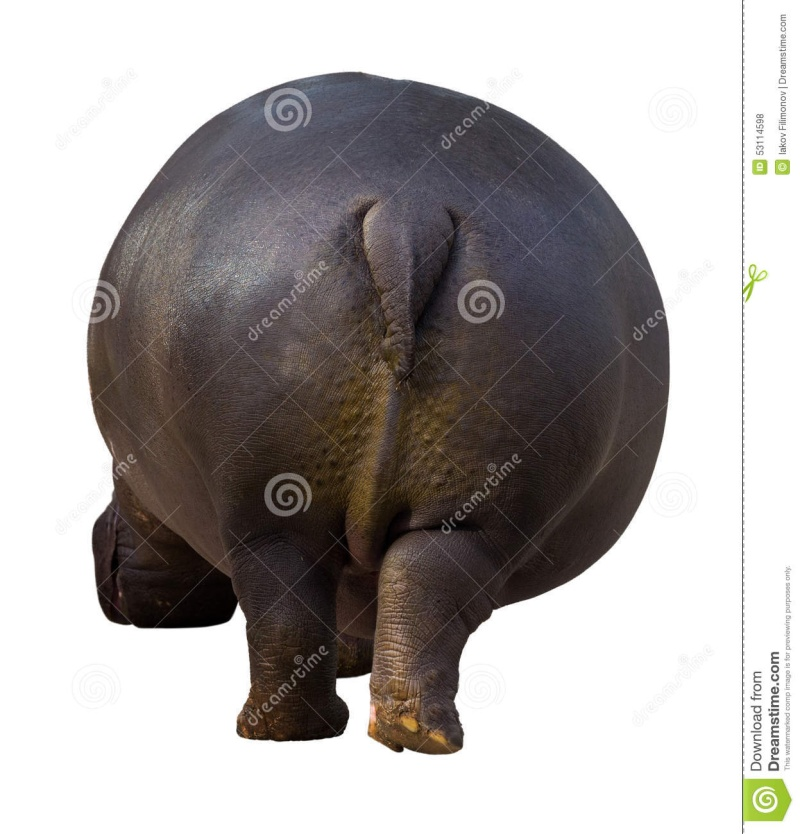hipopotamo: (75, 67, 659, 753)
